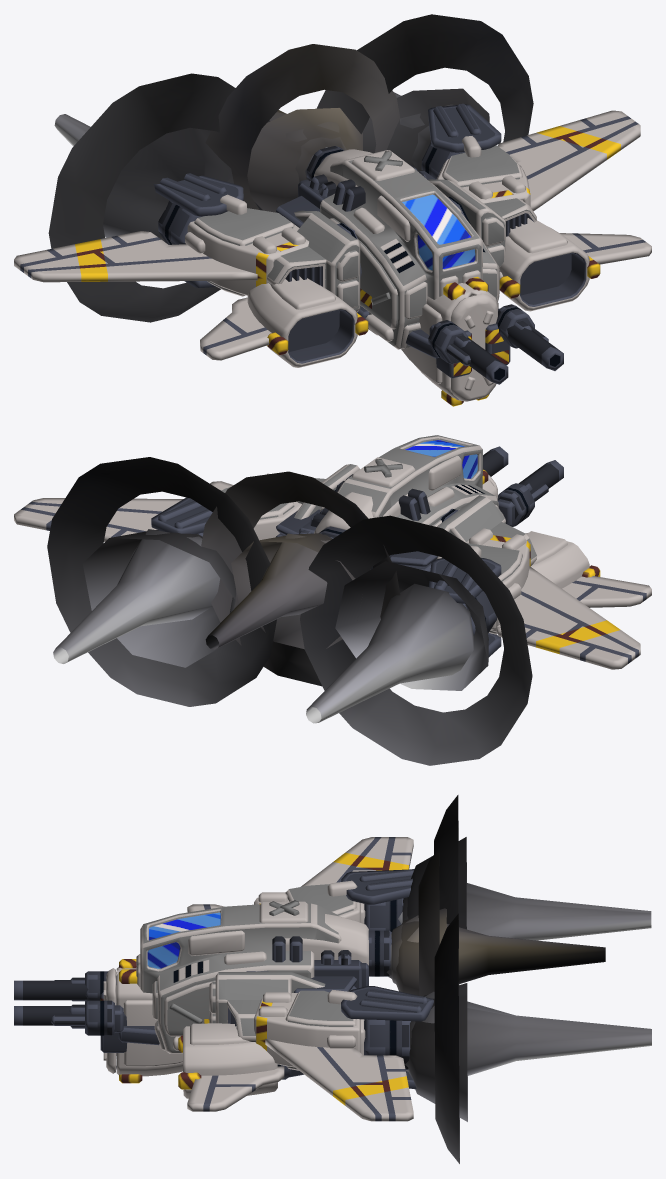
File: StaticMech_Fighter.FBX
3 views of the same model, one above another, from view 1: azimuth 30°, elevation 25°; view 2: azimuth 150°, elevation 25°; view 3: azimuth 270°, elevation 25° (orthographic). The views are drawn at different scales.
Visible parts, largest first — view 1: Object001, DRIVEFLARE02, Box003, DRIVEFLARE03, DRIVEFLARE01; view 2: DRIVEFLARE02, DRIVEFLARE01, Object001, DRIVEFLARE03, Box003; view 3: Object001, Box003, DRIVEFLARE01, DRIVEFLARE02, DRIVEFLARE03.
Part boxes in pixels (bbox=[...]): Object001: bbox=[14, 103, 651, 406]; DRIVEFLARE02: bbox=[48, 73, 270, 322]; Box003: bbox=[298, 150, 500, 349]; DRIVEFLARE03: bbox=[205, 44, 400, 212]; DRIVEFLARE01: bbox=[316, 14, 533, 171]; DRIVEFLARE02: bbox=[300, 515, 532, 765]; DRIVEFLARE01: bbox=[47, 457, 276, 706]; Object001: bbox=[14, 446, 651, 669]; DRIVEFLARE03: bbox=[201, 471, 400, 686]; Box003: bbox=[299, 435, 498, 569]; Object001: bbox=[14, 837, 433, 1121]; Box003: bbox=[136, 900, 368, 1053]; DRIVEFLARE01: bbox=[405, 913, 651, 1163]; DRIVEFLARE02: bbox=[398, 795, 651, 940]; DRIVEFLARE03: bbox=[386, 848, 605, 996].
Size of the model in its own units: 20.25 by 7.94 by 19.6.
